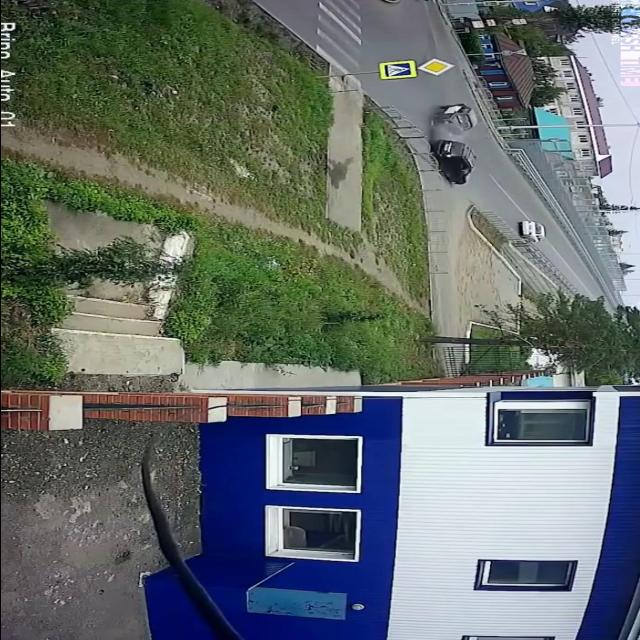accident: (424, 99, 486, 189)
